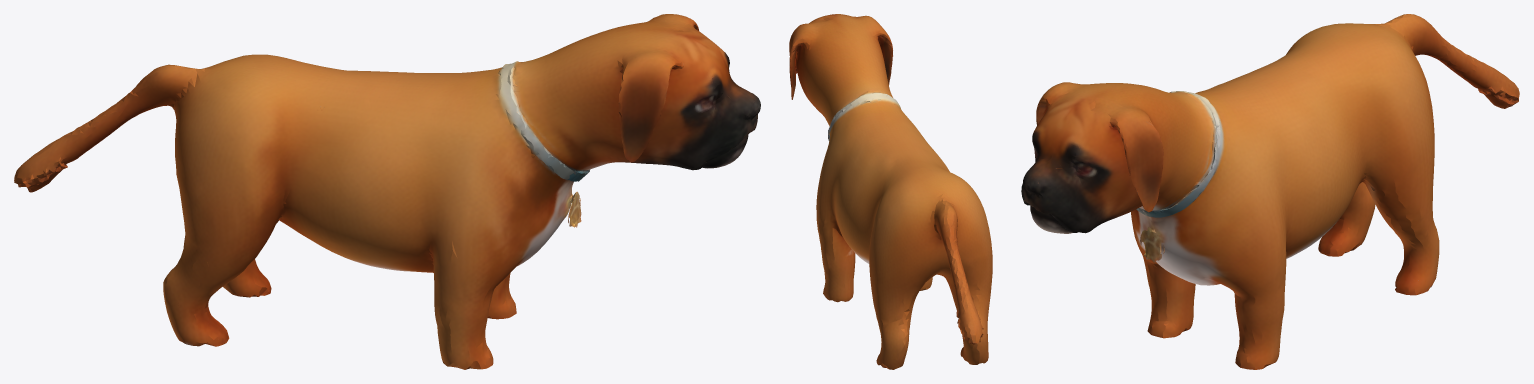
Rendered from bentley_rodin.glb.
3 views of the same model, side by side, from view 1: azimuth 30°, elevation 25°; view 2: azimuth 150°, elevation 25°; view 3: azimuth 270°, elevation 25° (orthographic). The views are drawn at different scales.
Parts seen in each view (by area): view 1: Bentley_Rodin; view 2: Bentley_Rodin; view 3: Bentley_Rodin.
Boxes of the visible parts, x1,y1,x2,y2 form: Bentley_Rodin: [14, 14, 760, 369]; Bentley_Rodin: [789, 14, 992, 369]; Bentley_Rodin: [1021, 14, 1519, 369].
Bounding box in the file's own units: 1.83 × 1.13 × 1.68.
Materials: 1 (1 with a texture image).
